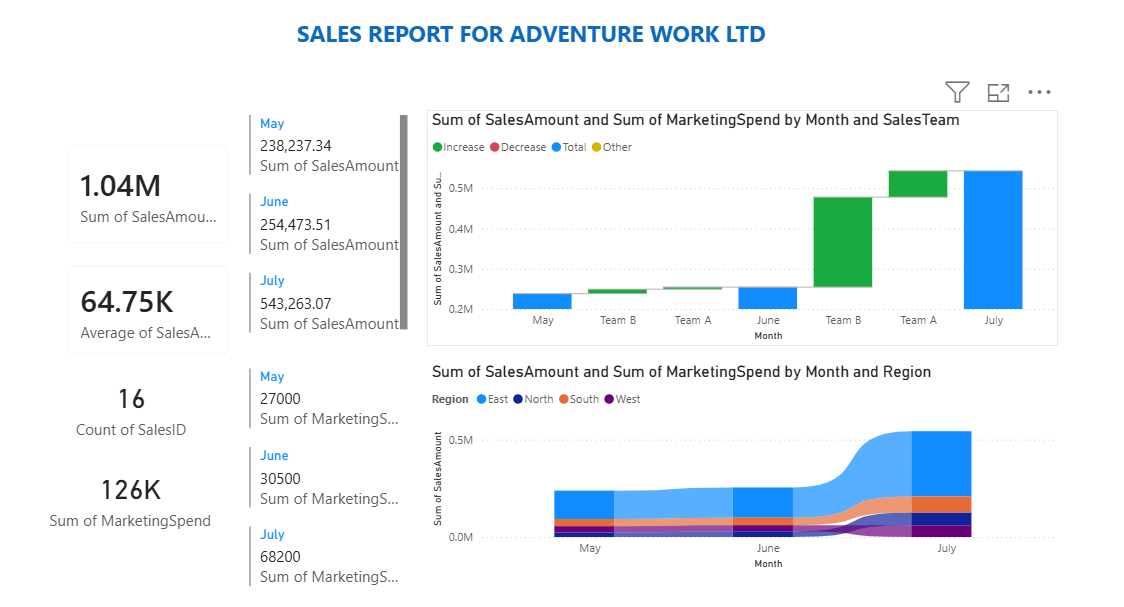

The page's visual inventory and layout, read from the dashboard file:
{"tool":"powerbi","page":{"name":"Page 1","canvas":[1280,720],"ordinal":0},"visuals":[{"type":"cardVisual","fields":{"Data":["Sum(Exercise 5 1 4 6-Update.SalesAmount)"]},"box":[140,20.7,203.6,140],"z":0},{"type":"cardVisual","fields":{"Data":["Avg(Exercise 5 1 4 6-Update.SalesAmount)"]},"box":[140,160.7,203.6,128.8],"z":1},{"type":"multiRowCard","fields":{"Values":["Sum(Exercise 5 1 4 6-Update.SalesAmount)","Exercise 5 1 4 6-Update.OrderDate.Variation.Date Hierarchy.Month"]},"box":[343.6,39.8,178.1,421.5],"z":2},{"type":"card","fields":{"Values":["CountNonNull(Exercise 5 1 4 6-Update.SalesID)"]},"box":[157.5,289.5,167,90.7],"z":3},{"type":"card","fields":{"Values":["Sum(Exercise 5 1 4 6-Update.MarketingSpend)"]},"box":[140,415.1,203.6,111.3],"z":4},{"type":"multiRowCard","fields":{"Values":["Sum(Exercise 5 1 4 6-Update.MarketingSpend)","Exercise 5 1 4 6-Update.OrderDate.Variation.Date Hierarchy.Month"]},"box":[343.6,289.5,178.1,267.2],"z":5},{"type":"waterfallChart","fields":{"Y":["Sum(Exercise 5 1 4 6-Update.SalesAmount)"],"Category":["Exercise 5 1 4 6-Update.OrderDate.Variation.Date Hierarchy.Month"],"Breakdown":["Exercise 5 1 4 6-Update.SalesTeam"]},"box":[537.6,39.8,669.6,249.7],"z":6},{"type":"ribbonChart","fields":{"Y":["Sum(Exercise 5 1 4 6-Update.SalesAmount)"],"Category":["Exercise 5 1 4 6-Update.OrderDate.Variation.Date Hierarchy.Month"],"Series":["Exercise 5 1 4 6-Update.Region"]},"box":[537.6,311.8,669.6,224.3],"z":7}]}

Visuals, with their boxes on the page's 1280x720 design canvas (x1, y1, x2, y2). These are canvas units, not pixel positions in the 1124x607 screenshot, which may show the page scaled, cropped or inside an application window:
cardVisual - Sum(Exercise 5 1 4 6-Update.SalesAmount): x1=140 y1=21 x2=344 y2=161
cardVisual - Avg(Exercise 5 1 4 6-Update.SalesAmount): x1=140 y1=161 x2=344 y2=290
multiRowCard - Sum(Exercise 5 1 4 6-Update.SalesAmount) x Exercise 5 1 4 6-Update.OrderDate.Variation.Date Hierarchy.Month: x1=344 y1=40 x2=522 y2=461
card - CountNonNull(Exercise 5 1 4 6-Update.SalesID): x1=158 y1=290 x2=324 y2=380
card - Sum(Exercise 5 1 4 6-Update.MarketingSpend): x1=140 y1=415 x2=344 y2=526
multiRowCard - Sum(Exercise 5 1 4 6-Update.MarketingSpend) x Exercise 5 1 4 6-Update.OrderDate.Variation.Date Hierarchy.Month: x1=344 y1=290 x2=522 y2=557
waterfallChart - Sum(Exercise 5 1 4 6-Update.SalesAmount) x Exercise 5 1 4 6-Update.OrderDate.Variation.Date Hierarchy.Month: x1=538 y1=40 x2=1207 y2=290
ribbonChart - Sum(Exercise 5 1 4 6-Update.SalesAmount) x Exercise 5 1 4 6-Update.OrderDate.Variation.Date Hierarchy.Month: x1=538 y1=312 x2=1207 y2=536
